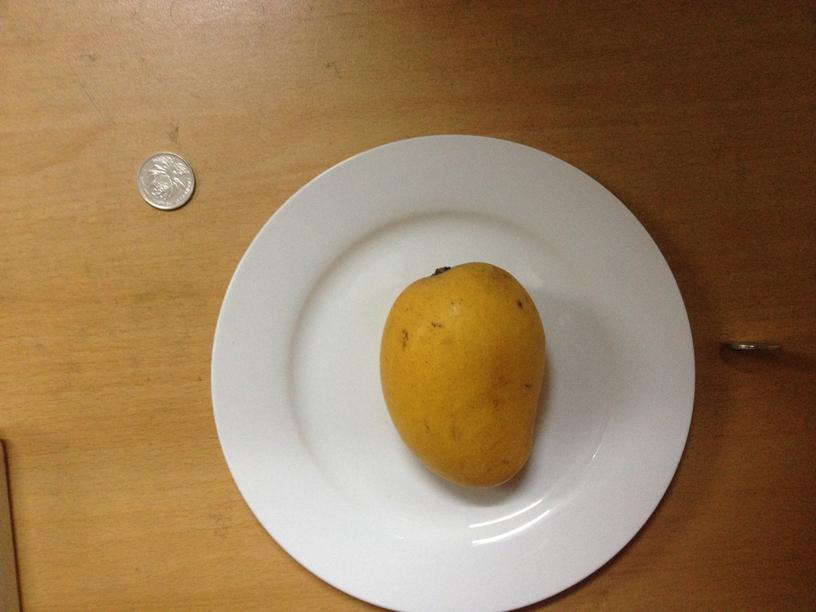coin: (138, 151, 196, 211)
mango: (389, 258, 549, 489)
